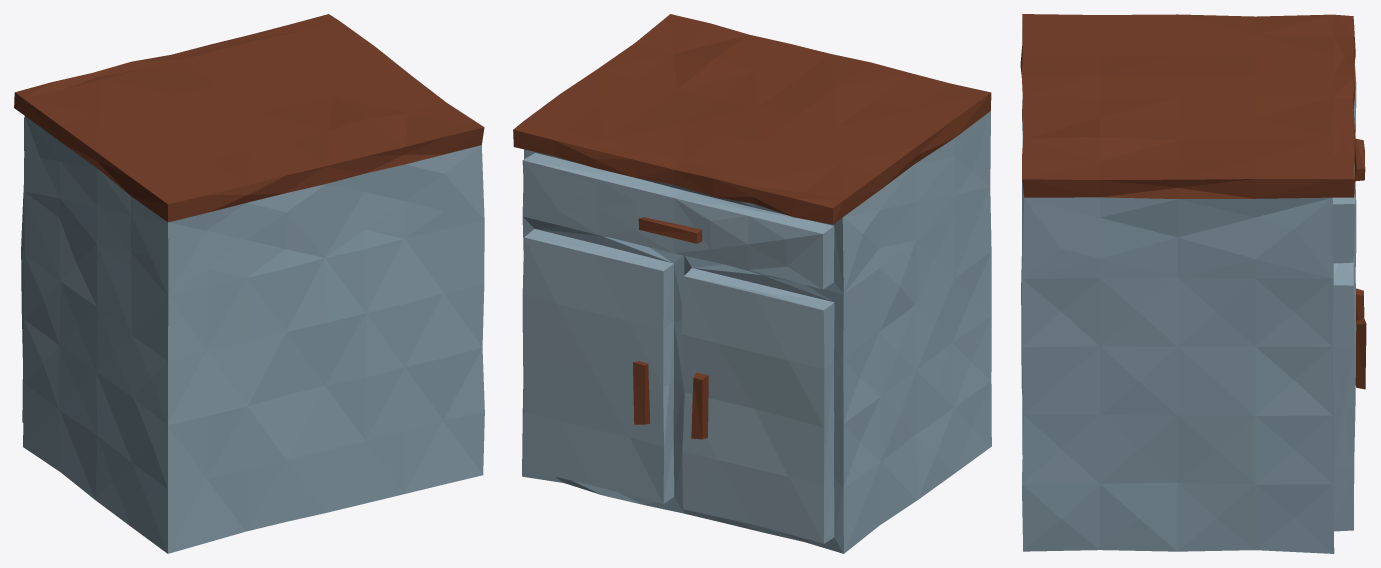
The model's file is kitchen_countertop.fbx.
The picture shows the model from 3 angles, left to right: view 1: azimuth 30°, elevation 25°; view 2: azimuth 150°, elevation 25°; view 3: azimuth 270°, elevation 25°; orthographic projection. The views are drawn at different scales.
Visible parts, largest first — view 1: kitchen_countertop; view 2: kitchen_countertop; view 3: kitchen_countertop.
Boxes of the visible parts, bbox=[...] form: kitchen_countertop: bbox=[14, 14, 484, 553]; kitchen_countertop: bbox=[513, 14, 991, 553]; kitchen_countertop: bbox=[1020, 14, 1366, 553].
Bounding box in the file's own units: 78.42 × 82.69 × 68.92.
